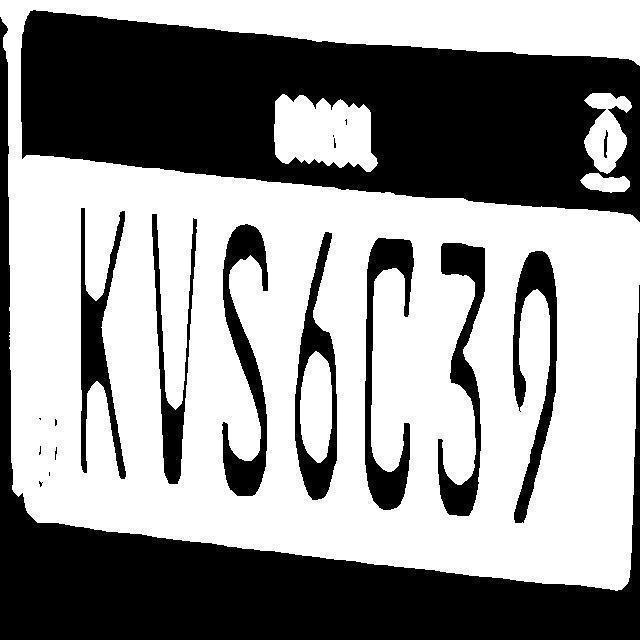3: (432, 220, 498, 526)
6: (294, 207, 350, 502)
9: (497, 216, 560, 532)
c: (351, 213, 426, 512)
k: (69, 215, 142, 510)
s: (216, 215, 286, 515)
v: (147, 210, 210, 496)
